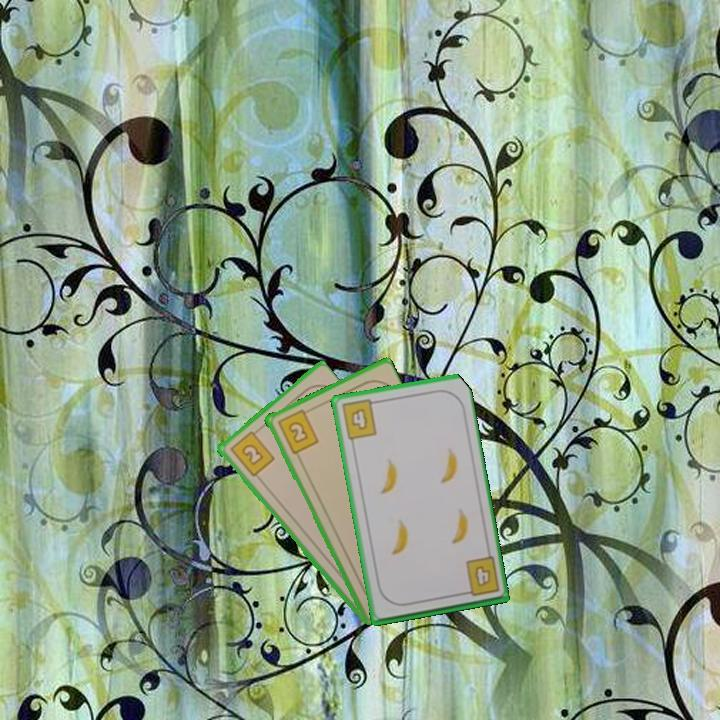2b: (226, 425, 277, 480), (274, 405, 321, 457)
4b: (457, 553, 502, 599), (338, 396, 381, 442)
